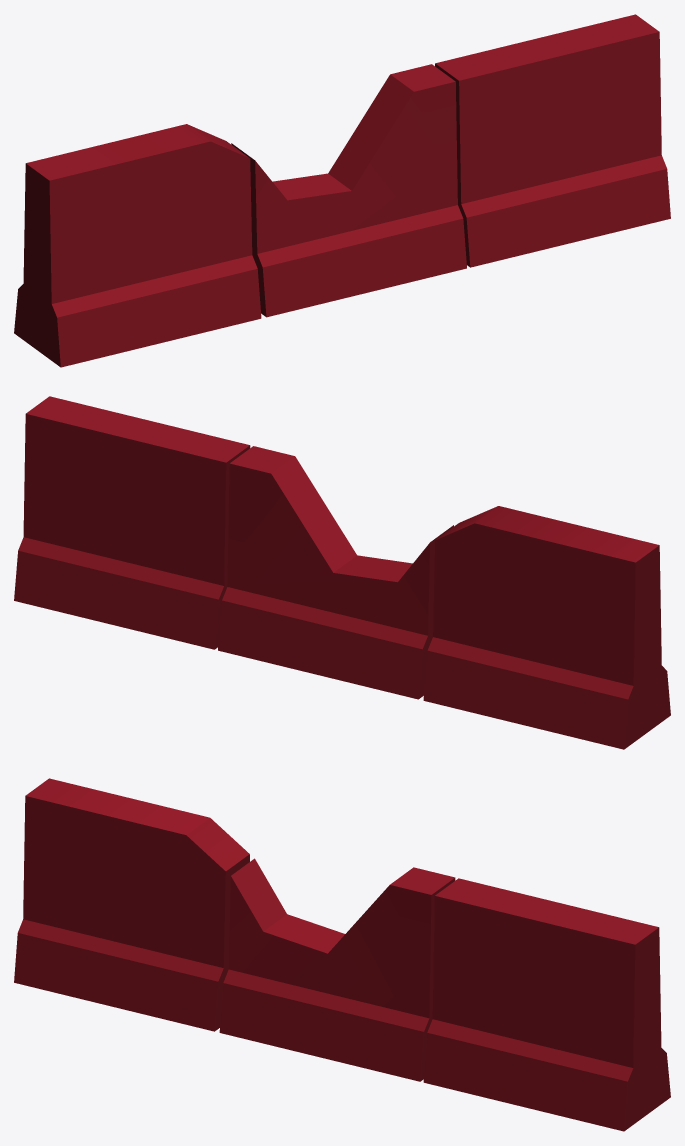
File: Wall2.fbx
3 views of the same model, one above another, from view 1: azimuth 30°, elevation 25°; view 2: azimuth 150°, elevation 25°; view 3: azimuth 330°, elevation 25° (orthographic).
Visible parts, largest first — view 1: Wall2; view 2: Wall2; view 3: Wall2.
Part boxes in pixels (x1,y1,x2,y2): Wall2: [14, 14, 670, 367]; Wall2: [14, 396, 670, 749]; Wall2: [14, 778, 670, 1131].
Size of the model in its own units: 322 by 90.17 by 42.89.
